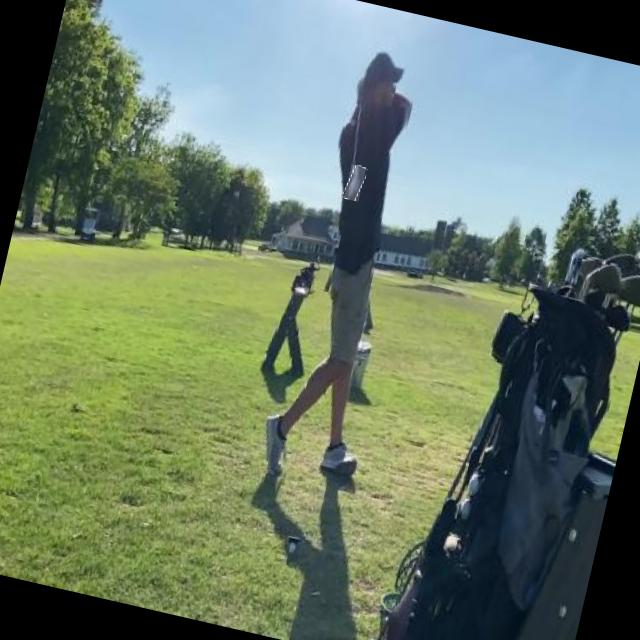club head: (343, 164, 366, 202)
